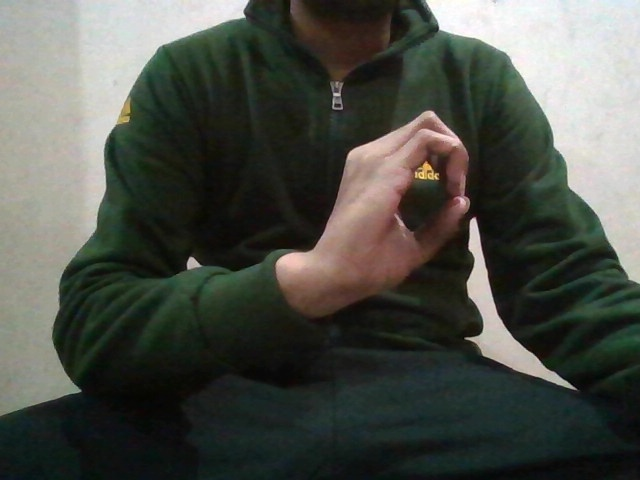O: (320, 108, 484, 312)
